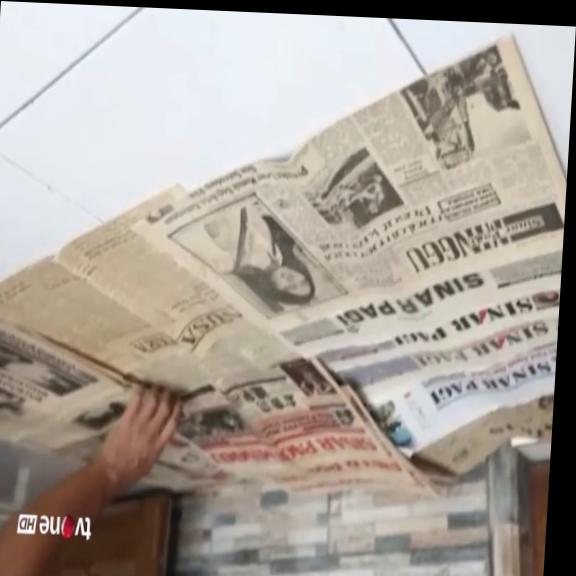Kertas: (153, 21, 573, 368), (283, 220, 563, 378), (183, 351, 453, 505), (339, 310, 556, 465), (0, 310, 150, 459)
